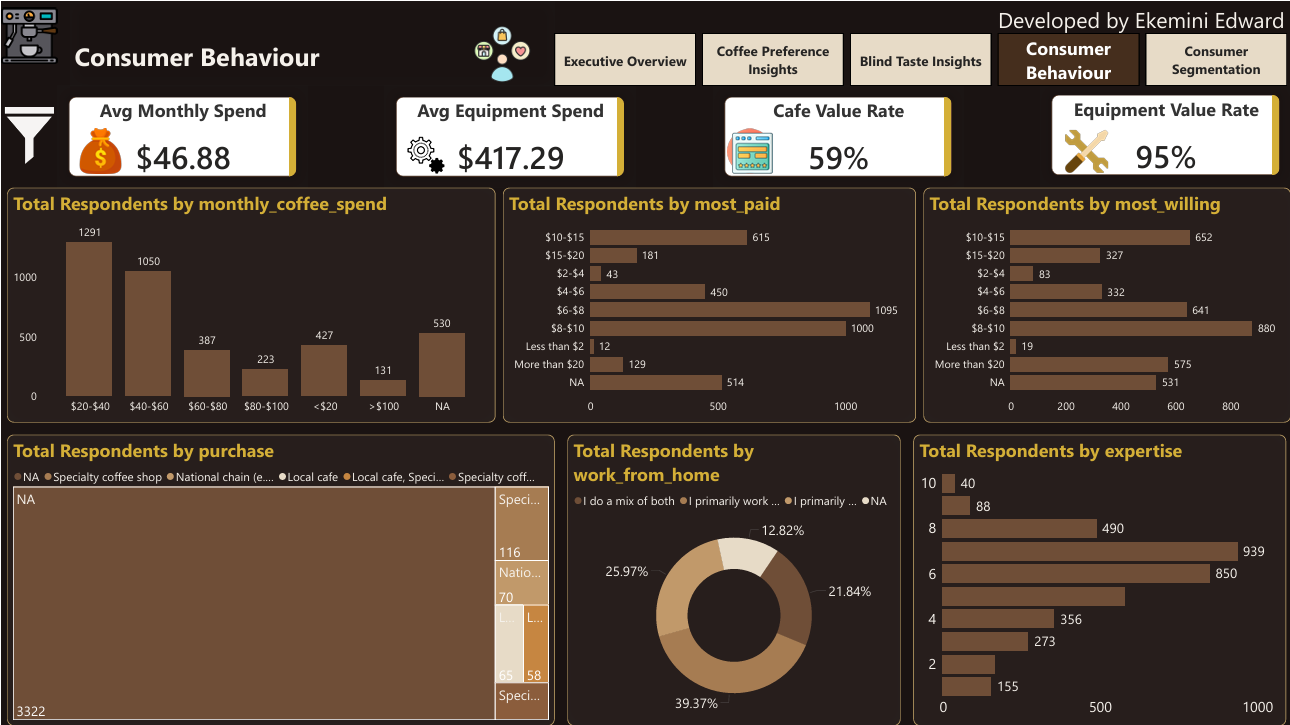

This screenshot's page, from the dashboard's own definition file:
{"tool":"powerbi","page":{"name":"Consumer Behaviour","canvas":[1920,1080],"ordinal":3},"visuals":[{"type":"cardVisual","fields":{"Data":["_Measures.Avg Monthly Spend"]},"box":[83.8,125.6,372,152.1],"z":0},{"type":"cardVisual","fields":{"Data":["_Measures.Avg Equipment Spend"]},"box":[571.4,125.6,372.5,152.1],"z":1000},{"type":"cardVisual","fields":{"Data":["_Measures.Cafe Value Rate"]},"box":[1059.6,125.6,372,152.1],"z":2000},{"type":"cardVisual","fields":{"Data":["_Measures.Equipment Value Rate"]},"box":[1547.3,123.4,372.5,152.1],"z":3000},{"type":"textbox","box":[103.6,0,720.7,125.6],"z":4000},{"type":"clusteredColumnChart","fields":{"Category":["Coffee_Survey_Facts.monthly_coffee_spend"],"Y":["_Measures.Total Respondents"]},"box":[8.8,277.7,727.3,350.4],"z":5000},{"type":"clusteredBarChart","fields":{"Category":["Coffee_Survey_Facts.most_paid"],"Y":["_Measures.Total Respondents"]},"box":[747.2,277.7,614.9,350.4],"z":6000},{"type":"clusteredBarChart","fields":{"Y":["_Measures.Total Respondents"],"Category":["Coffee_Survey_Facts.most_willing"]},"box":[1373.1,277.7,546.6,350.4],"z":7000},{"type":"treemap","fields":{"Group":["Coffee_Survey_Facts.purchase"],"Values":["_Measures.Total Respondents"]},"box":[8.8,645.8,815.5,434.2],"z":8000},{"type":"donutChart","fields":{"Y":["_Measures.Total Respondents"],"Category":["Coffee_Survey_Facts.work_from_home"]},"box":[843.1,645.8,495.9,434.2],"z":9000},{"type":"clusteredBarChart","fields":{"Category":["Coffee_Survey_Facts.expertise"],"Y":["_Measures.Total Respondents"]},"box":[1357.7,645.8,555.4,434.2],"z":10000},{"type":"group","id":"g1","title":"Consumer Behavior Filter","box":[0,143.3,400.5,921.3],"z":11000},{"type":"image","box":[0,143.3,83.8,114.6],"z":11000,"group":"g1"},{"type":"pageNavigator","box":[824.3,48.5,1093.2,77.1],"z":12000},{"type":"textbox","box":[1478.9,0,440.8,68.3],"z":13000},{"type":"image","box":[97,189.6,101,68.3],"z":14000},{"type":"image","box":[586.3,200.6,92.6,57.3],"z":15000},{"type":"image","box":[1060.2,189.6,110.2,68.3],"z":16000},{"type":"image","box":[1564.9,189.6,101.4,68.3],"z":17000},{"type":"image","box":[0,0,83.8,103.6],"z":18000},{"type":"image","box":[683.3,35.3,125.6,88.2],"z":19000}]}

Visuals, with their boxes in screenshot pixels (x1, y1, x2, y2), scaled from the page's 1920x1080 canvas onto the 1290x725 screenshot:
cardVisual - _Measures.Avg Monthly Spend: pyautogui.locateOnScreen(56, 84, 306, 186)
cardVisual - _Measures.Avg Equipment Spend: pyautogui.locateOnScreen(384, 84, 634, 186)
cardVisual - _Measures.Cafe Value Rate: pyautogui.locateOnScreen(712, 84, 962, 186)
cardVisual - _Measures.Equipment Value Rate: pyautogui.locateOnScreen(1040, 83, 1289, 185)
textbox: pyautogui.locateOnScreen(70, 0, 554, 84)
clusteredColumnChart - Coffee_Survey_Facts.monthly_coffee_spend x _Measures.Total Respondents: pyautogui.locateOnScreen(6, 186, 495, 422)
clusteredBarChart - Coffee_Survey_Facts.most_paid x _Measures.Total Respondents: pyautogui.locateOnScreen(502, 186, 915, 422)
clusteredBarChart - _Measures.Total Respondents x Coffee_Survey_Facts.most_willing: pyautogui.locateOnScreen(923, 186, 1289, 422)
treemap - Coffee_Survey_Facts.purchase x _Measures.Total Respondents: pyautogui.locateOnScreen(6, 434, 554, 724)
donutChart - _Measures.Total Respondents x Coffee_Survey_Facts.work_from_home: pyautogui.locateOnScreen(566, 434, 900, 724)
clusteredBarChart - Coffee_Survey_Facts.expertise x _Measures.Total Respondents: pyautogui.locateOnScreen(912, 434, 1285, 724)
"Consumer Behavior Filter" group: pyautogui.locateOnScreen(0, 96, 269, 715)
image: pyautogui.locateOnScreen(0, 96, 56, 173)
pageNavigator: pyautogui.locateOnScreen(554, 33, 1288, 84)
textbox: pyautogui.locateOnScreen(994, 0, 1289, 46)
image: pyautogui.locateOnScreen(65, 127, 133, 173)
image: pyautogui.locateOnScreen(394, 135, 456, 173)
image: pyautogui.locateOnScreen(712, 127, 786, 173)
image: pyautogui.locateOnScreen(1051, 127, 1120, 173)
image: pyautogui.locateOnScreen(0, 0, 56, 70)
image: pyautogui.locateOnScreen(459, 24, 543, 83)
